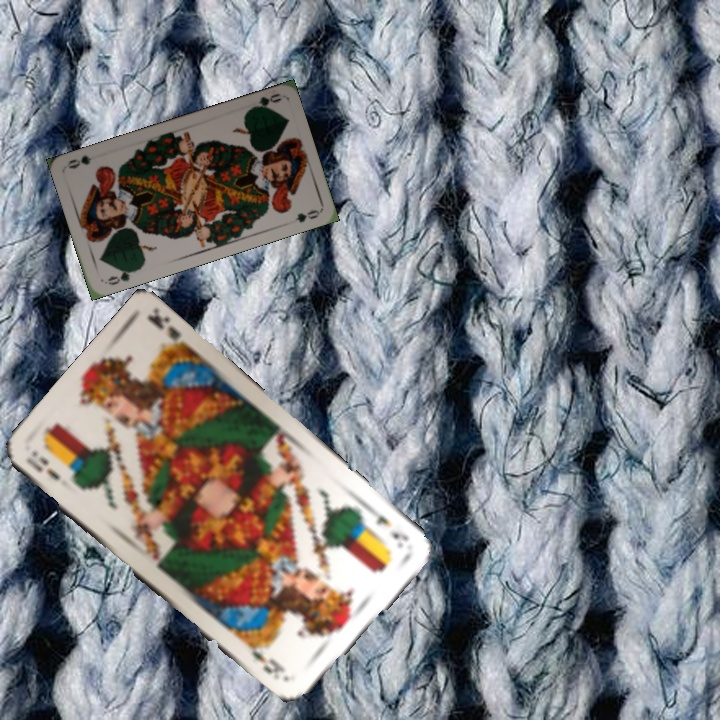EK: (363, 506, 412, 551), (21, 447, 63, 484)
GO: (244, 90, 283, 114), (101, 265, 140, 288)
